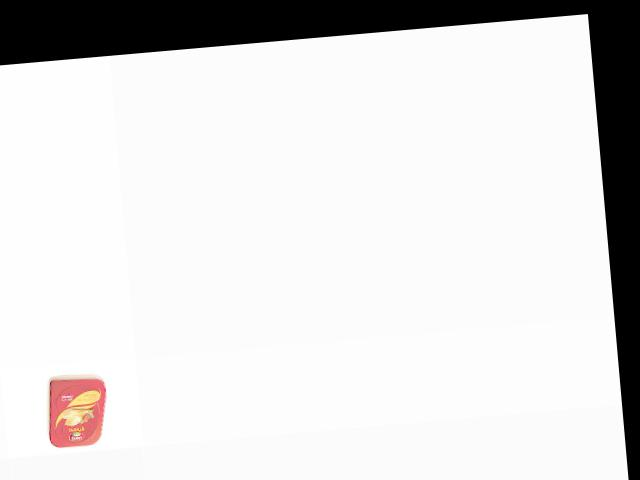cheese: (41, 372, 110, 453)
